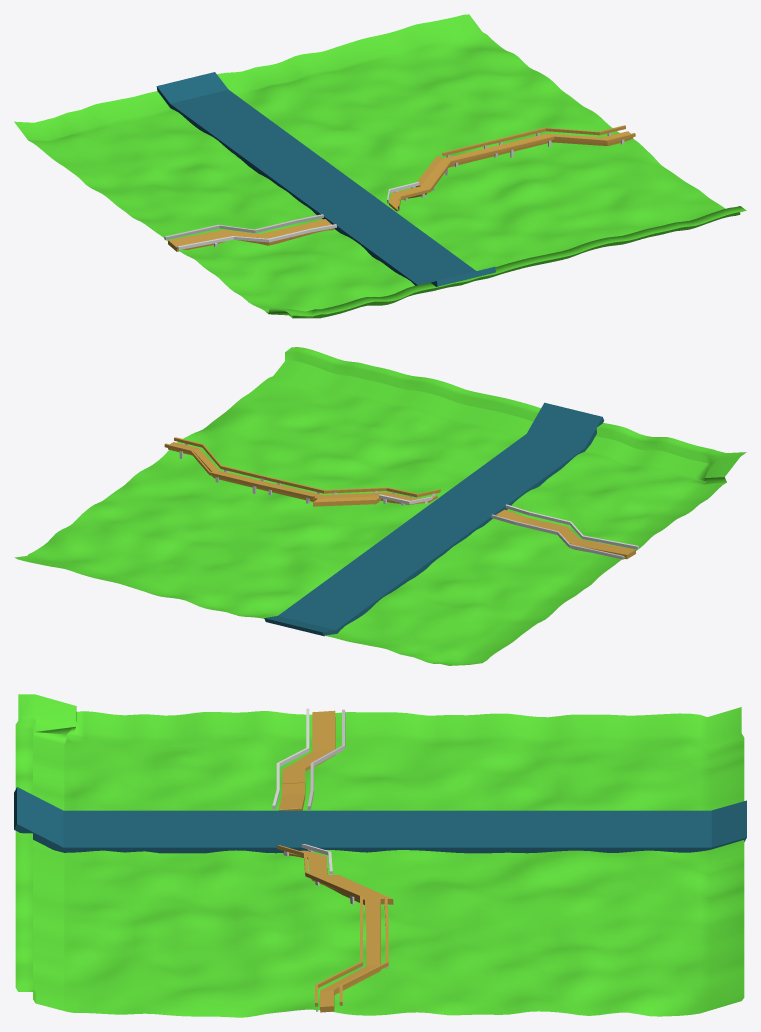
File: parkV.dae
The picture shows the model from 3 angles, top to bottom: view 1: azimuth 30°, elevation 25°; view 2: azimuth 150°, elevation 25°; view 3: azimuth 270°, elevation 25°; orthographic projection. The views are drawn at different scales.
Visible parts, largest first — view 1: Plane, Plane_002, Cube_025, Cube_003, Cube_001_001, Cube_002, Cube_003_001; view 2: Plane, Plane_002, Cube_025, Cube_003, Cube_001_001, Cube_003_001, Cube_002; view 3: Plane, Plane_002, Cube_025, Cube_001_001, Cube_003, Cube_001.
Boxes of the visible parts, x1,y1,x2,y2 form: Plane: (14, 14, 746, 318); Plane_002: (156, 72, 495, 286); Cube_025: (389, 131, 633, 211); Cube_003: (398, 125, 635, 209); Cube_001_001: (168, 229, 289, 251); Cube_002: (164, 214, 323, 240); Cube_003_001: (177, 224, 336, 249); Plane: (14, 347, 746, 665); Plane_002: (264, 402, 604, 636); Cube_025: (168, 442, 437, 506); Cube_003: (164, 437, 440, 499); Cube_001_001: (538, 521, 635, 559); Cube_003_001: (505, 504, 638, 549); Cube_002: (491, 514, 624, 559); Plane: (15, 694, 744, 1017); Plane_002: (14, 787, 746, 853); Cube_025: (283, 850, 393, 1012); Cube_001_001: (282, 710, 335, 784); Cube_003: (277, 845, 388, 1006); Cube_001: (279, 782, 305, 810).
Size of the model in its own units: 135 by 143 by 7.19.
